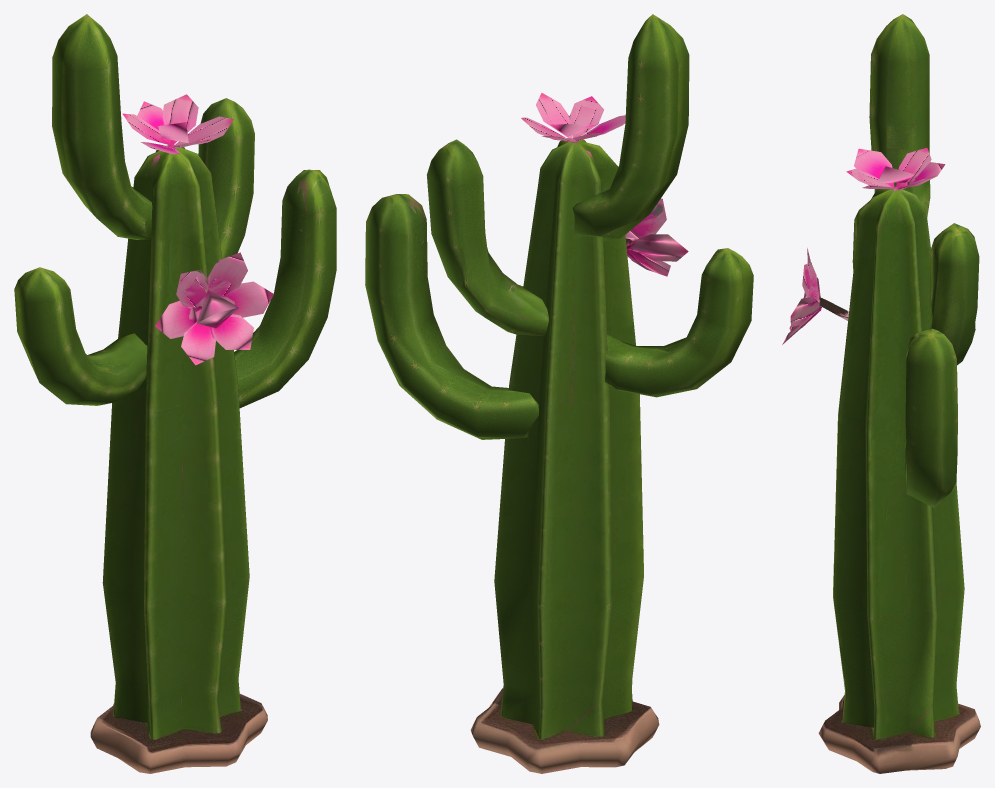
Rendered from desert-cactus.glb.
3 renders of one model, left to right at view 1: azimuth 30°, elevation 25°; view 2: azimuth 150°, elevation 25°; view 3: azimuth 270°, elevation 25°, orthographic. The views are drawn at different scales.
Size of the model in its own units: 0.4624 by 0.9526 by 0.2501.
1 material, 1 textured.
